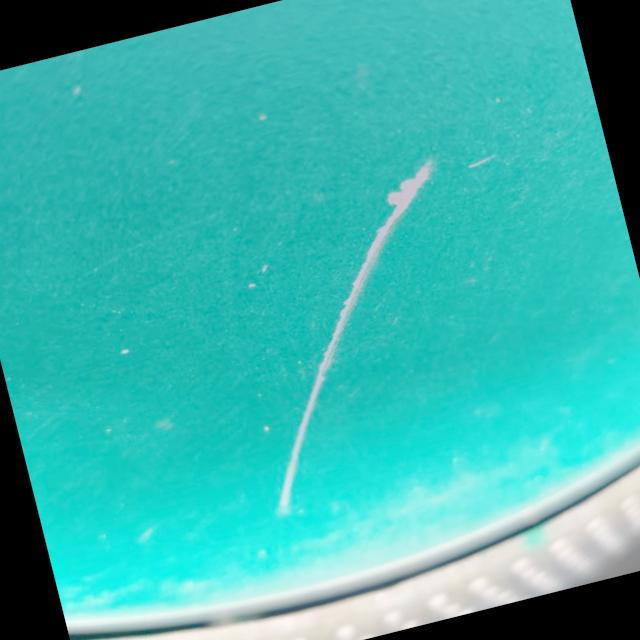scratch: (168, 131, 536, 543)
